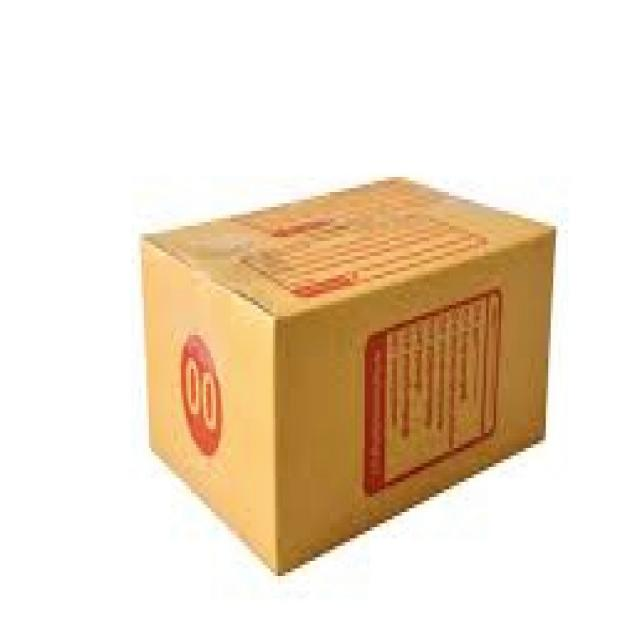box: (118, 140, 573, 590)
